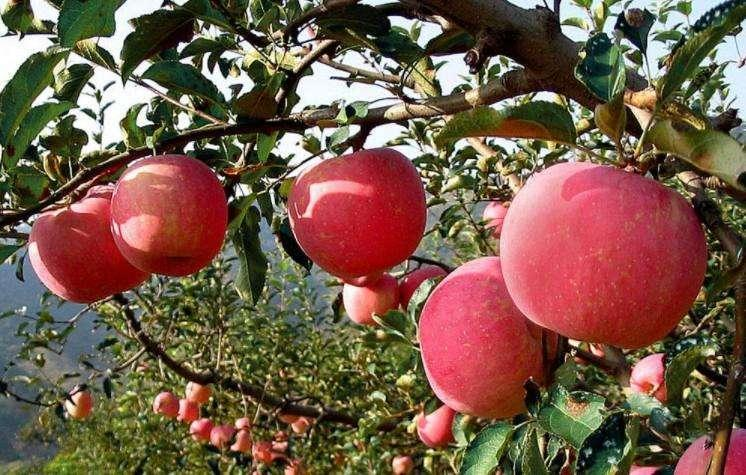apple: (498, 159, 707, 351), (417, 256, 563, 417), (286, 146, 426, 279), (107, 153, 229, 276), (25, 186, 153, 303), (340, 273, 398, 326)
